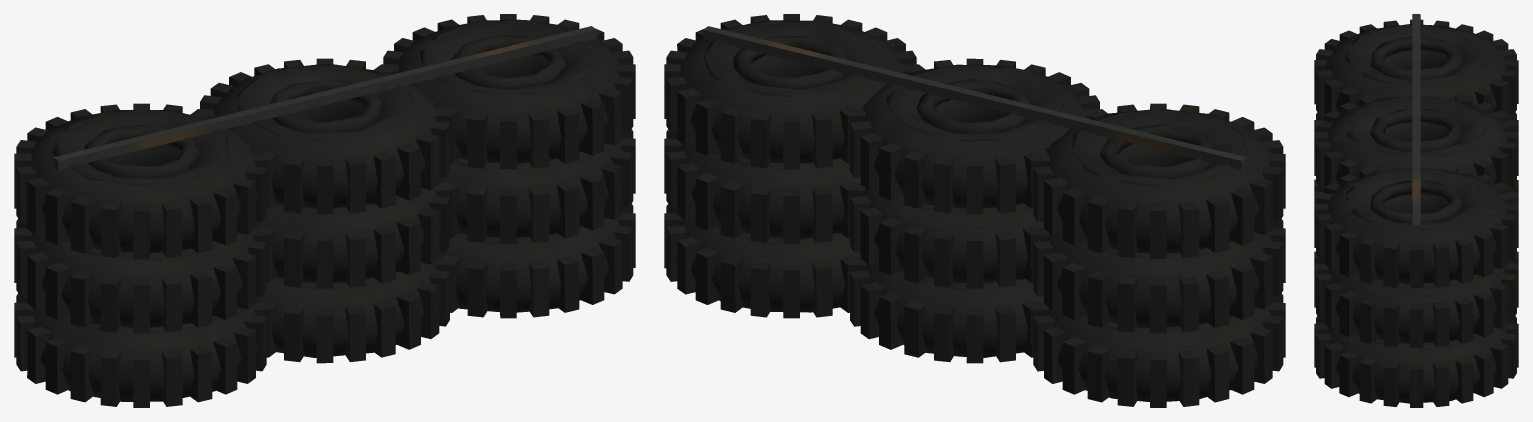
The model's file is tyre-barrier-lod.obj.
3 views of the same model, side by side, from view 1: azimuth 30°, elevation 25°; view 2: azimuth 150°, elevation 25°; view 3: azimuth 270°, elevation 25° (orthographic). The views are drawn at different scales.
Visible parts, largest first — view 1: tyre-barrier.001; view 2: tyre-barrier.001; view 3: tyre-barrier.001.
Boxes of the visible parts, left/top/right/bottom form: tyre-barrier.001: left=14, top=14, right=635, bottom=407; tyre-barrier.001: left=664, top=14, right=1285, bottom=407; tyre-barrier.001: left=1314, top=14, right=1518, bottom=407.
Size of the model in its own units: 2.72 by 1.01 by 1.02.
1 material, 1 textured.
